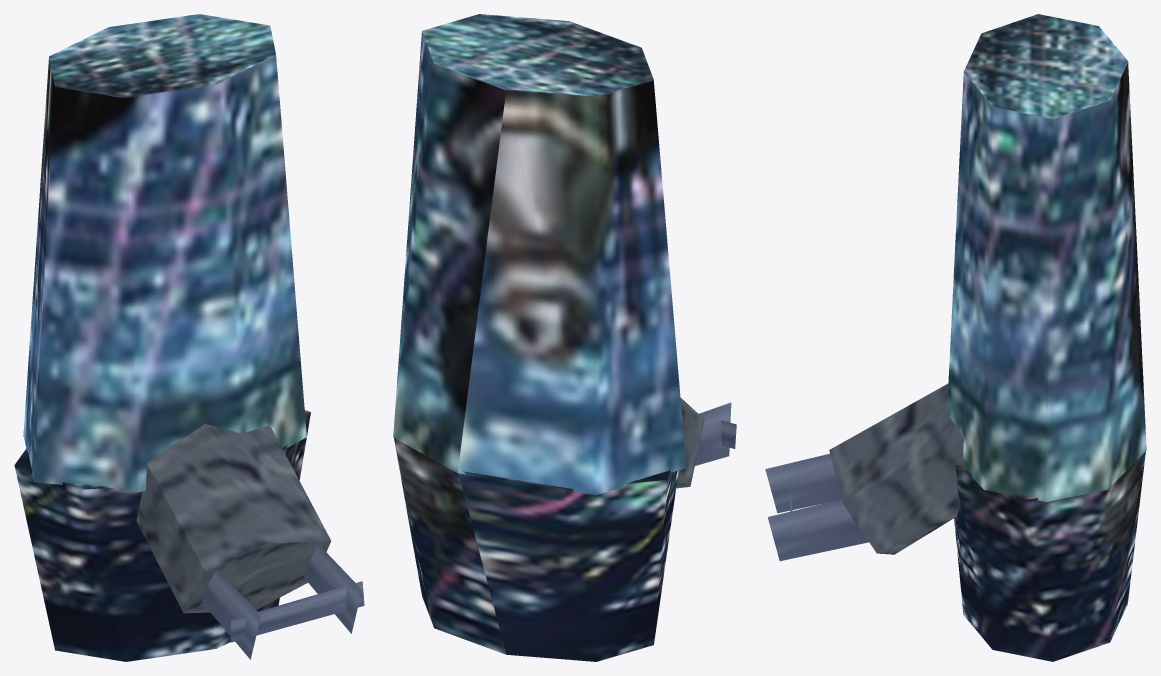
The model's file is mimita-deathball-v.glb.
3 views of the same model, side by side, from view 1: azimuth 30°, elevation 25°; view 2: azimuth 150°, elevation 25°; view 3: azimuth 270°, elevation 25° (orthographic). The views are drawn at different scales.
Parts seen in each view (by area): view 1: Cylinder.008; view 2: Cylinder.008; view 3: Cylinder.008.
Boxes of the visible parts, bbox=[...] form: Cylinder.008: bbox=[14, 14, 364, 661]; Cylinder.008: bbox=[393, 14, 736, 661]; Cylinder.008: bbox=[765, 14, 1146, 661].
Size of the model in its own units: 1.13 by 2.21 by 1.41.
Materials: 4 (4 with a texture image).
